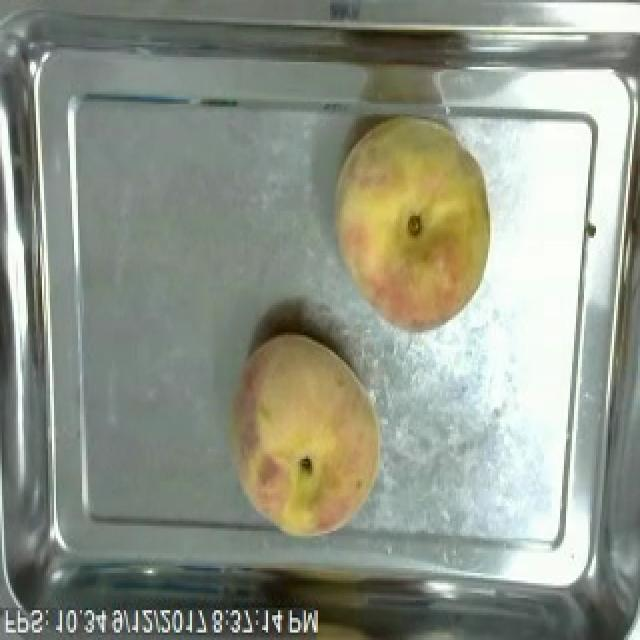Fruit: (322, 110, 504, 338), (218, 328, 390, 546)
